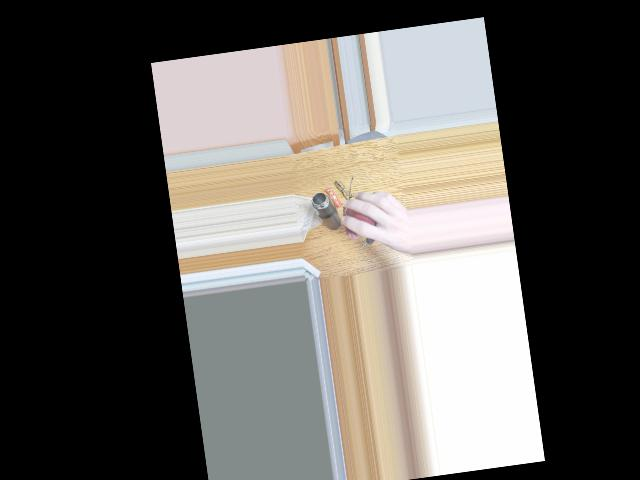onion: (348, 195, 384, 239)
